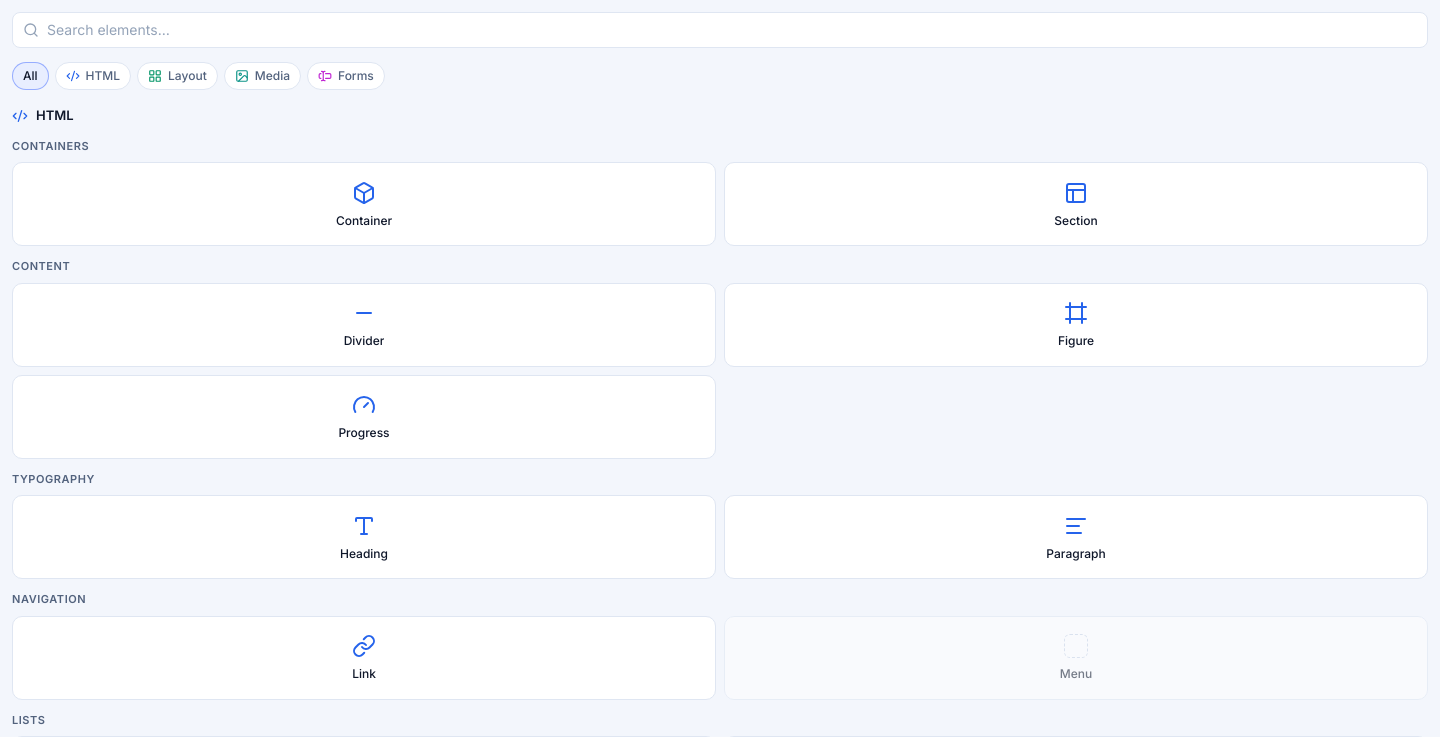
it: ResourceCatalogPanel › filters tiles by the search query and announces the result count
Type "paragraph" into the search field labelled "Search elements".
click(732, 30); type("paragraph")  # box [47, 20, 1417, 40]
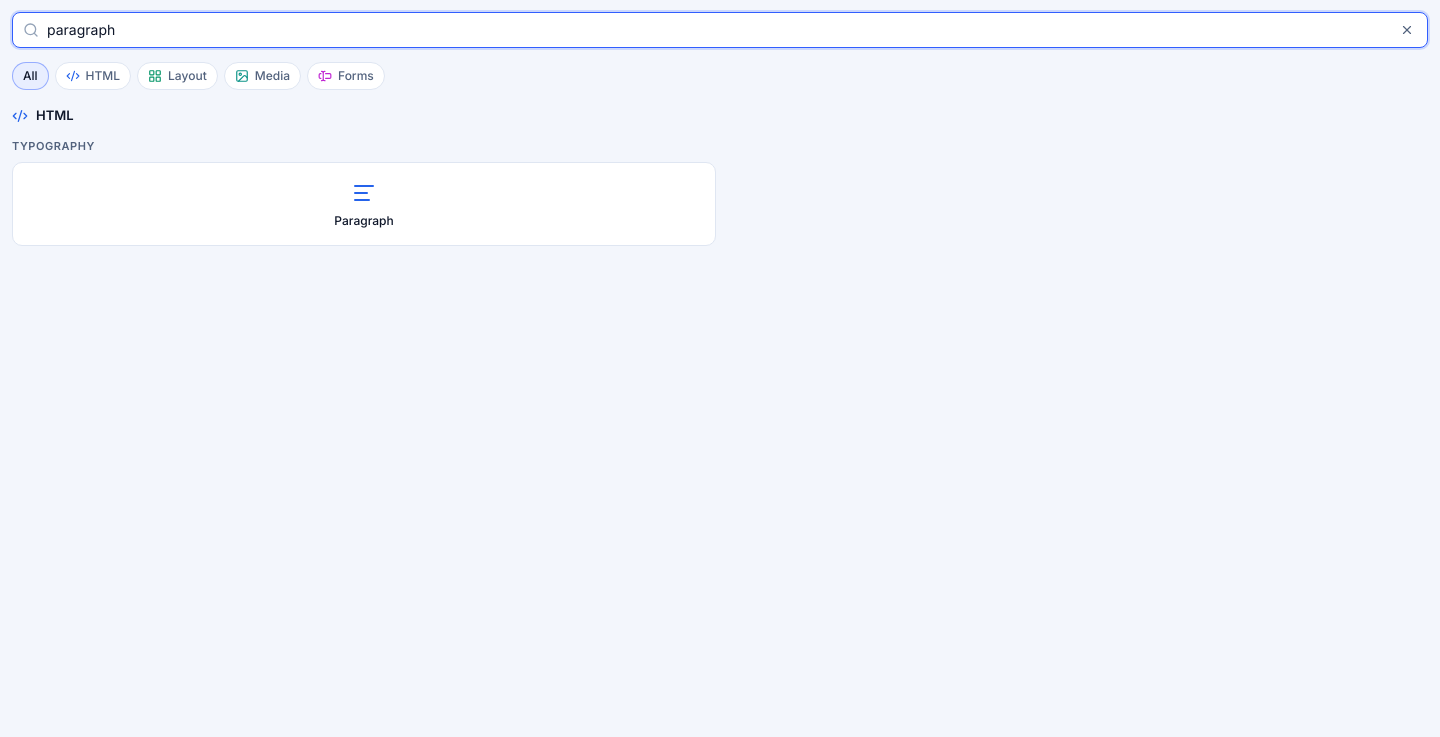
Expected: the button "Paragraph" is shown, [12, 162, 716, 246]
Now the button "Heading" is gone
